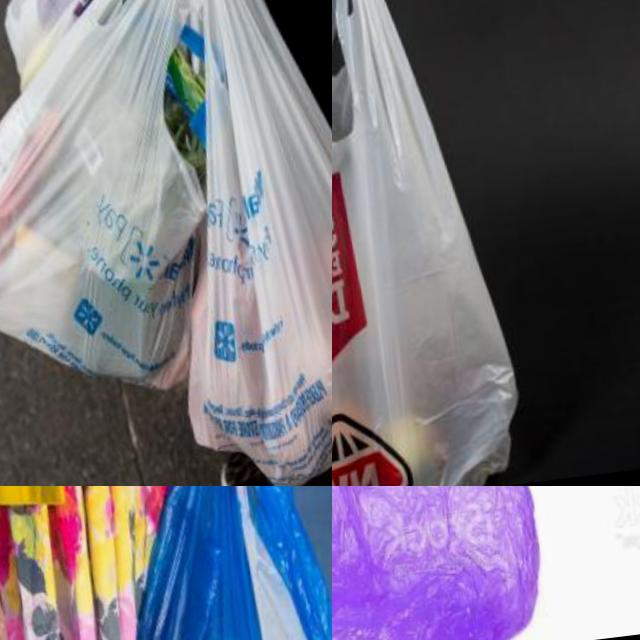sacola plástica: (0, 0, 270, 438), (120, 0, 332, 486), (332, 0, 530, 486), (94, 486, 332, 640), (332, 486, 567, 640), (0, 0, 193, 79)
